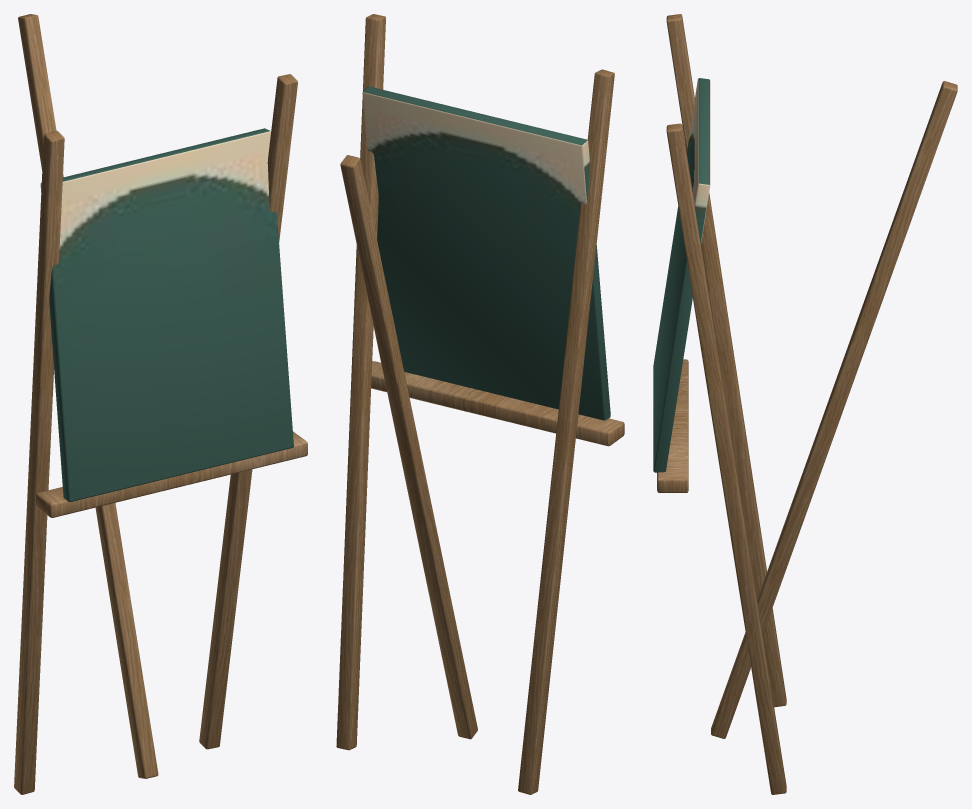
Rendered from art-easel-6cd487349780.glb.
The picture shows the model from 3 angles, left to right: view 1: azimuth 30°, elevation 25°; view 2: azimuth 150°, elevation 25°; view 3: azimuth 270°, elevation 25°; orthographic projection. The views are drawn at different scales.
Visible parts, largest first — view 1: Canvas, Mesh_Cedar_Slats; view 2: Canvas, Mesh_Cedar_Slats; view 3: Mesh_Cedar_Slats, Canvas.
Boxes of the visible parts, x1,y1,x2,y2 form: Canvas: (40, 128, 293, 501); Mesh_Cedar_Slats: (14, 14, 307, 794); Canvas: (362, 86, 610, 420); Mesh_Cedar_Slats: (336, 14, 624, 794); Mesh_Cedar_Slats: (657, 14, 957, 794); Canvas: (653, 78, 710, 472).
Bounding box in the file's own units: 0.64 × 1.67 × 0.6784.
Materials: 2 (2 with a texture image).
